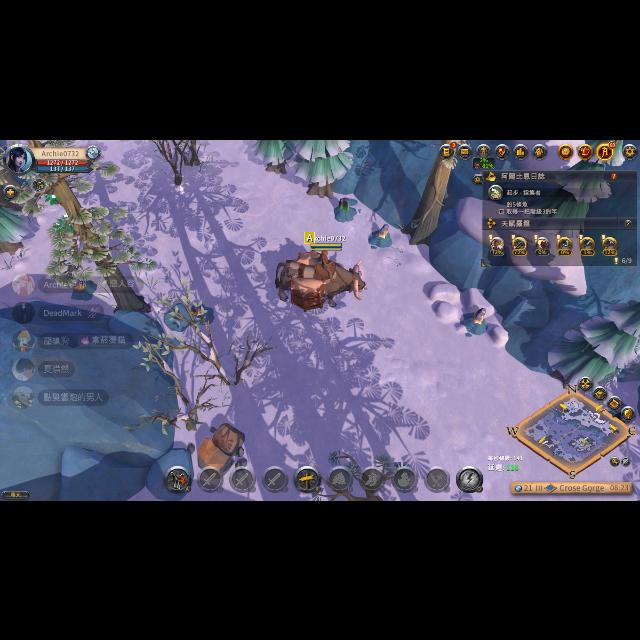mine_ii: (68, 273, 95, 299), (185, 298, 211, 324), (370, 220, 392, 248), (466, 305, 488, 333)
mine_iii: (333, 194, 357, 222)
